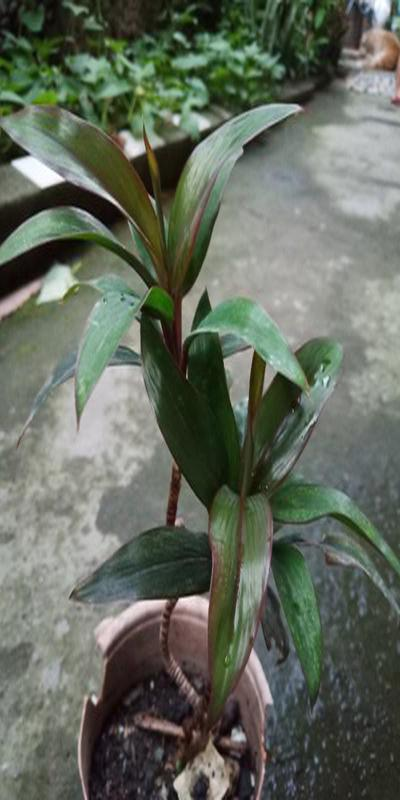Baston de san jose: (26, 108, 378, 745)
